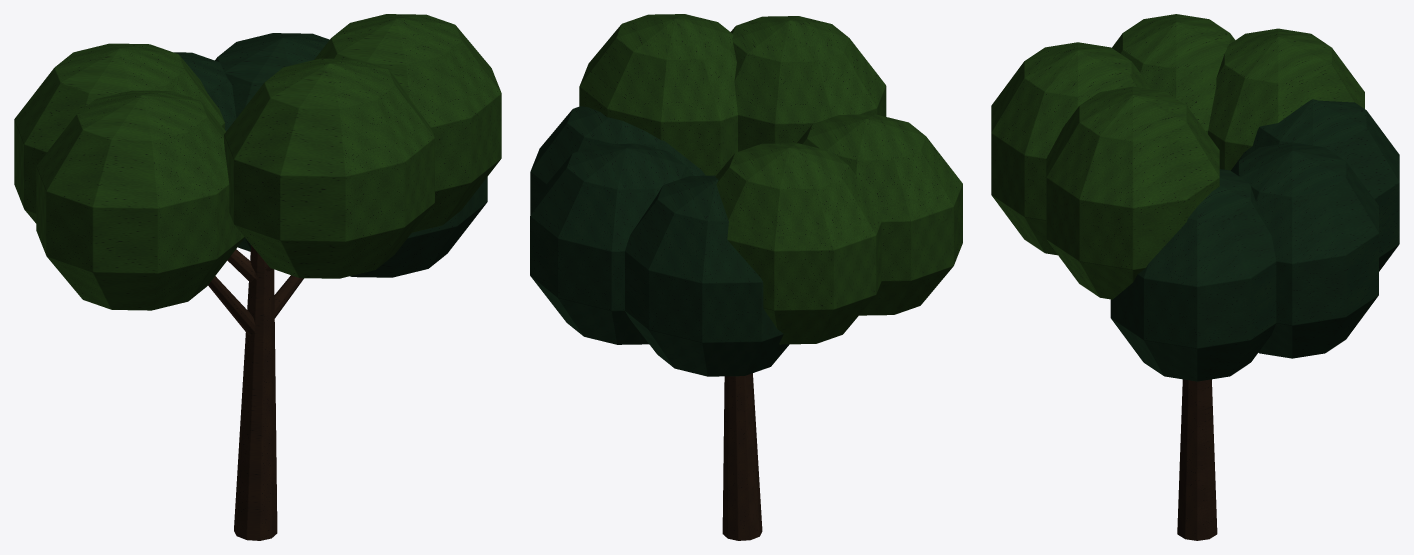
File: PROP-1363EB3367A2_lod1.glb
The picture shows the model from 3 angles, left to right: view 1: azimuth 30°, elevation 25°; view 2: azimuth 150°, elevation 25°; view 3: azimuth 270°, elevation 25°; orthographic projection. The views are drawn at different scales.
Visible parts, largest first — view 1: leaf_crown.025, leaf_crown.024, trunk.034, branch.016; view 2: leaf_crown.025, leaf_crown.024, trunk.034; view 3: leaf_crown.025, leaf_crown.024, trunk.034.
Boxes of the visible parts, x1,y1,x2,y2 form: leaf_crown.025: (14,14,501,310); leaf_crown.024: (174,33,487,277); trunk.034: (234,245,277,540); branch.016: (208,249,303,335); leaf_crown.025: (579,14,962,344); leaf_crown.024: (530,106,789,376); trunk.034: (722,373,762,540); leaf_crown.025: (991,14,1364,299); leaf_crown.024: (1110,99,1399,381); trunk.034: (1177,379,1217,540).
Size of the model in its own units: 5.57 by 6.17 by 4.69.
3 materials, 3 textured.
